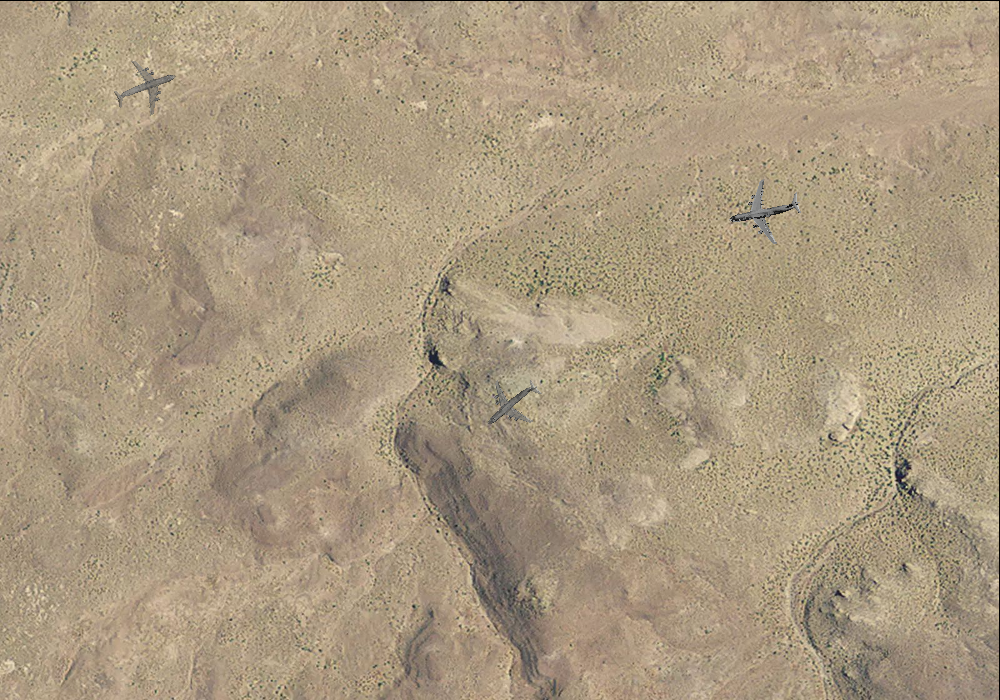plane: (469, 361, 555, 447), (722, 169, 807, 252), (104, 47, 185, 127)
